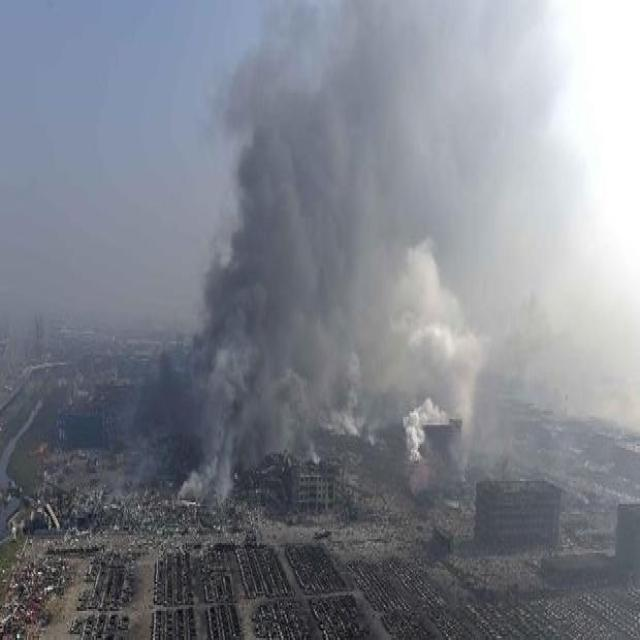Smoke: (170, 2, 574, 508)
